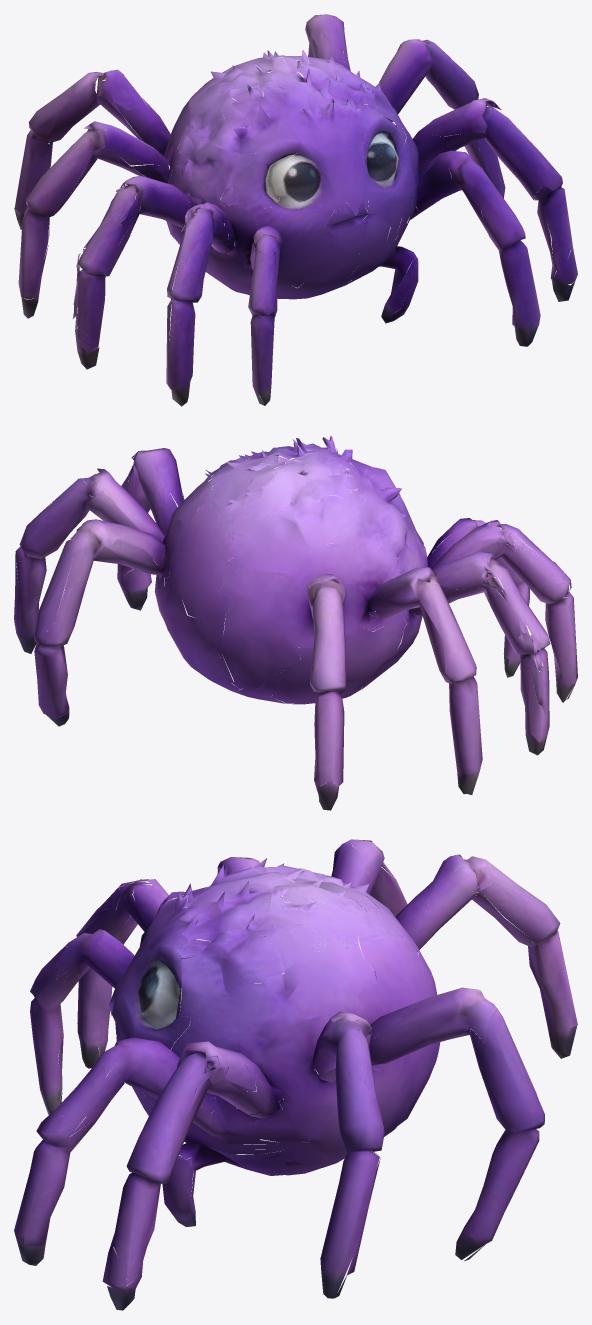
Rendered from mob_spider.glb.
The picture shows the model from 3 angles, top to bottom: view 1: azimuth 30°, elevation 25°; view 2: azimuth 150°, elevation 25°; view 3: azimuth 270°, elevation 25°; orthographic projection. The views are drawn at different scales.
Visible parts, largest first — view 1: tripo_node_31828406-d561-4d9f-a60e-2feab3b9fdf7; view 2: tripo_node_31828406-d561-4d9f-a60e-2feab3b9fdf7; view 3: tripo_node_31828406-d561-4d9f-a60e-2feab3b9fdf7.
Part boxes in pixels (<box>): tripo_node_31828406-d561-4d9f-a60e-2feab3b9fdf7: <box>14,14,577,406</box>; tripo_node_31828406-d561-4d9f-a60e-2feab3b9fdf7: <box>14,436,577,810</box>; tripo_node_31828406-d561-4d9f-a60e-2feab3b9fdf7: <box>14,839,577,1310</box>.
Bounding box in the file's own units: 0.9971 × 0.5122 × 0.8408.
1 material, 1 textured.
